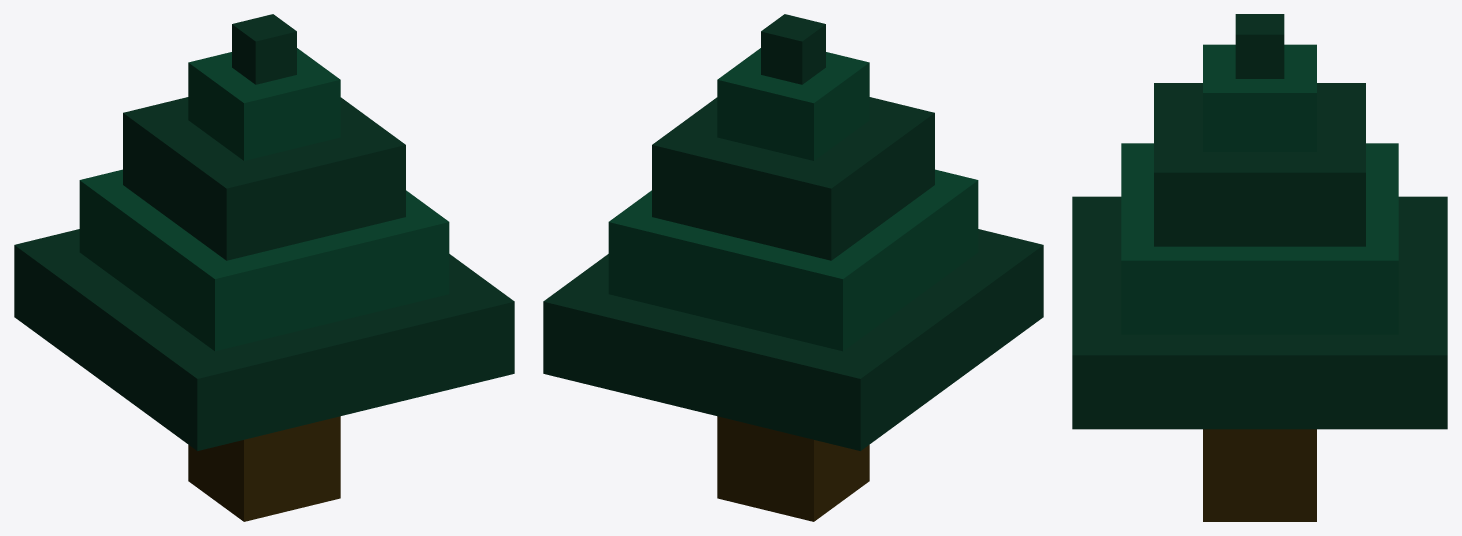
Rendered from Pine Tree.obj.
3 views of the same model, side by side, from view 1: azimuth 30°, elevation 25°; view 2: azimuth 150°, elevation 25°; view 3: azimuth 270°, elevation 25° (orthographic). The views are drawn at different scales.
Visible parts, largest first — view 1: Pine Tree; view 2: Pine Tree; view 3: Pine Tree.
Part boxes in pixels (left/top/right/bottom): Pine Tree: left=14, top=14, right=514, bottom=521; Pine Tree: left=543, top=14, right=1043, bottom=521; Pine Tree: left=1072, top=14, right=1447, bottom=521.
Size of the model in its own units: 23 by 32 by 23.
1 material, 1 textured.
